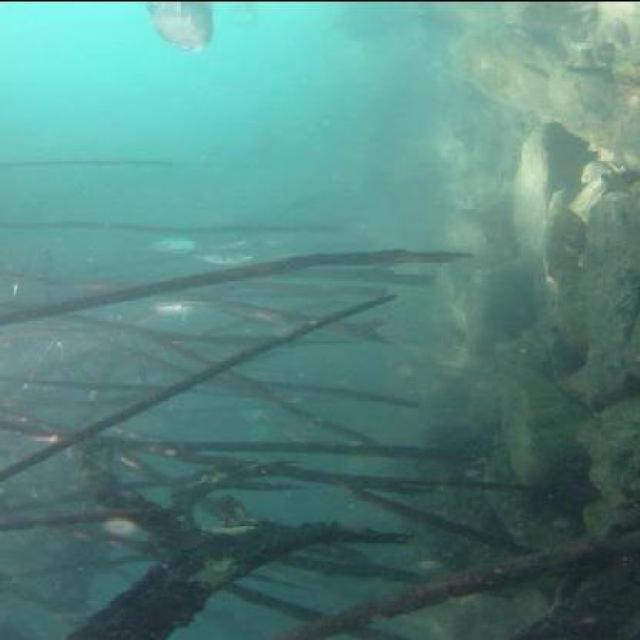Caranx_sexfasciatus_juvenile: (140, 0, 218, 51), (137, 227, 200, 262), (144, 294, 213, 321), (191, 242, 258, 269)
